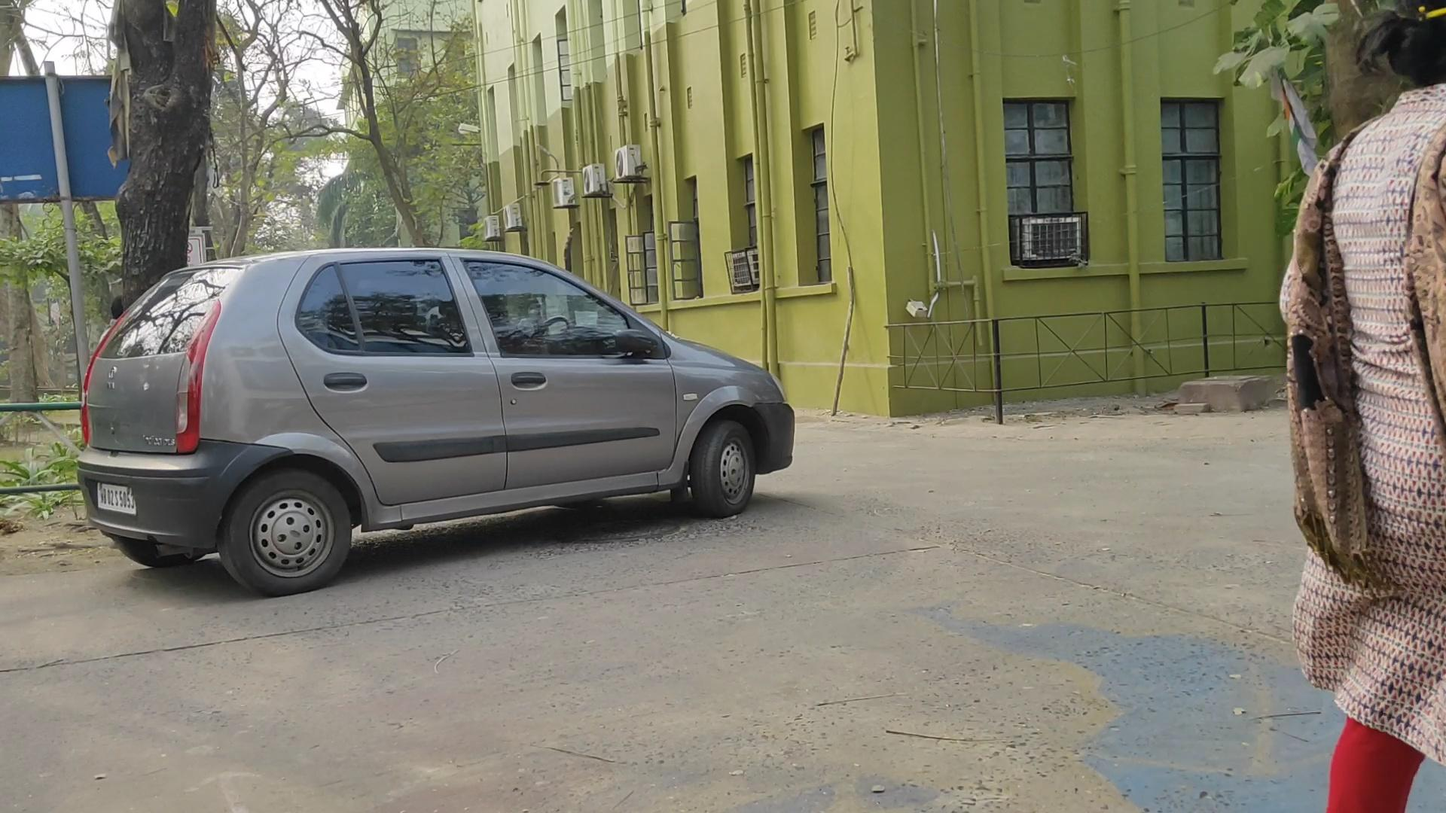car: (74, 246, 796, 598)
